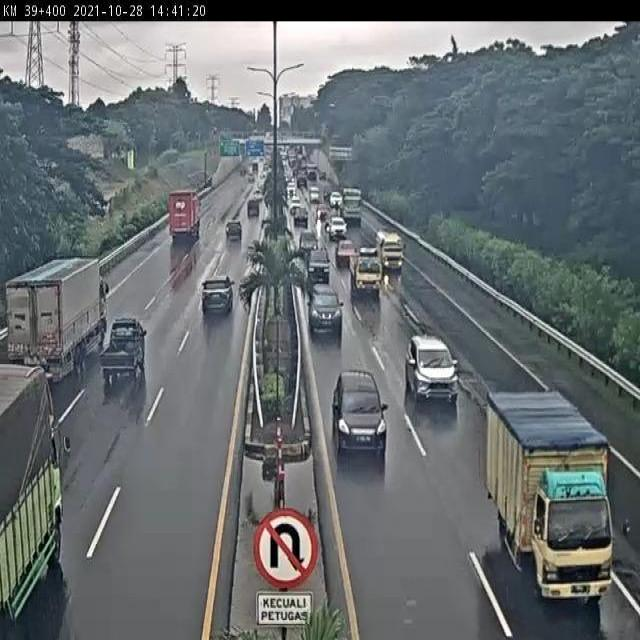car: (330, 371, 387, 460), (406, 336, 459, 407), (99, 317, 146, 379), (308, 284, 343, 336), (200, 275, 234, 316), (305, 247, 331, 281)
mid truck: (4, 256, 110, 380)
truck-m-: (483, 392, 617, 603), (348, 247, 383, 297)
